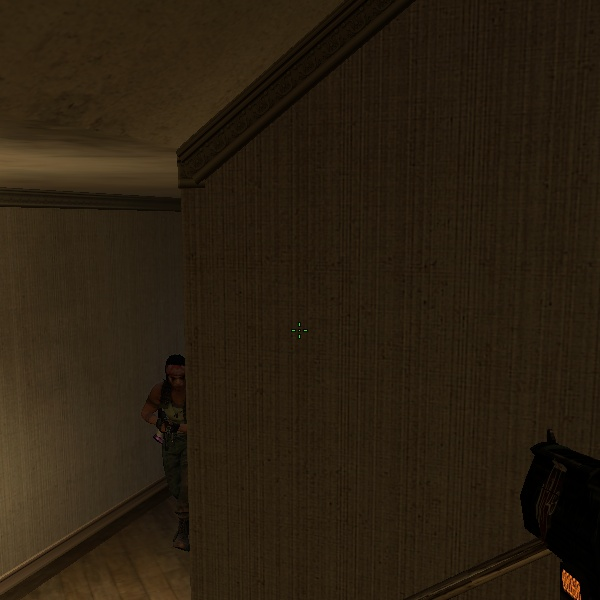t_body: (135, 349, 193, 543)
t_head: (155, 351, 191, 391)
